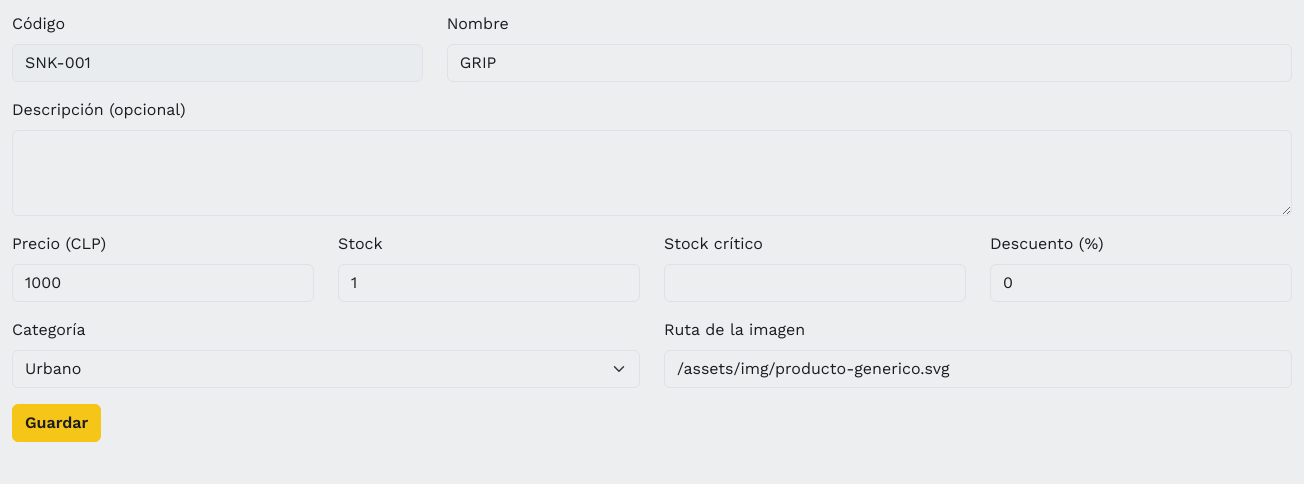
Test: FormularioProducto › bloquea el código al editar y rechaza un descuento mayor al 90%
Expected: the field labelled "Código" is disabled, [12,44,423,82]
Replace the text in the number field labelled "Descuento (%)" with "95": [1141, 283] box [990,264,1292,302]
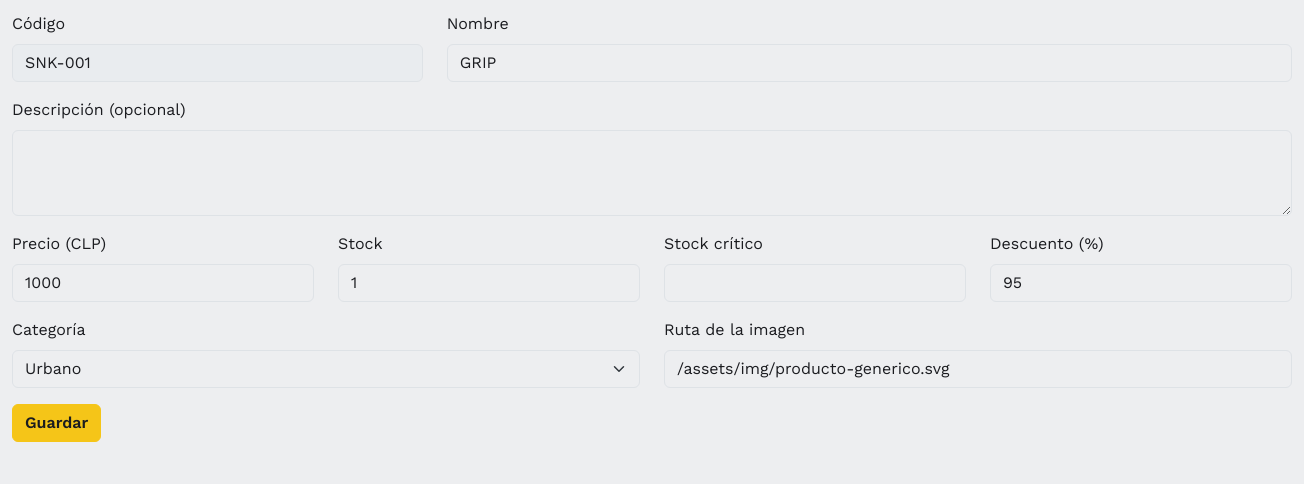
Click the button "Guardar": [57, 423] box [12,404,101,442]
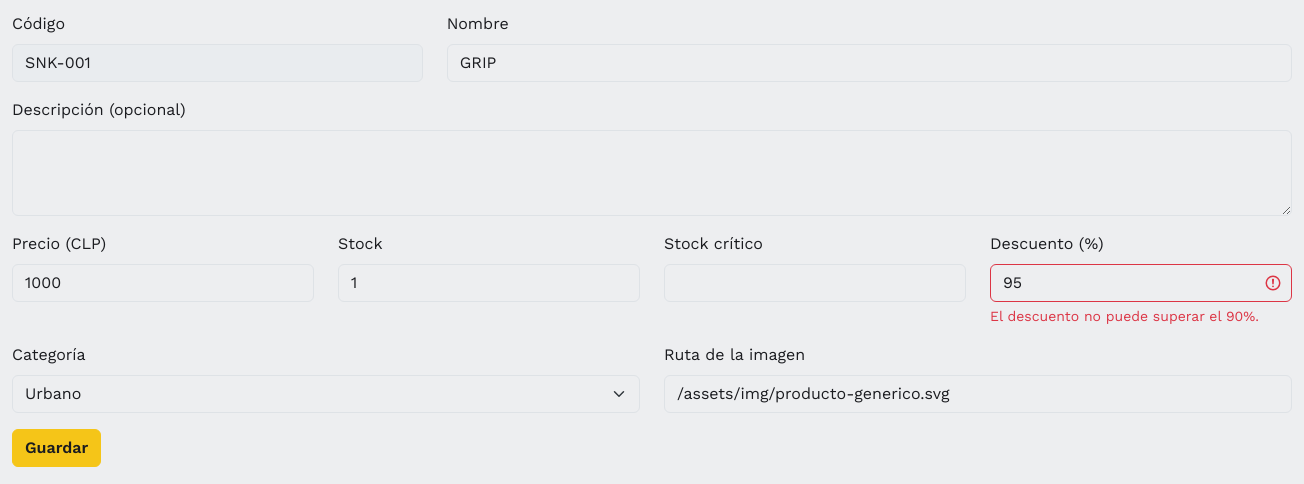
Expected: the text "El descuento no puede superar el 90%." is shown, [990,306,1292,327]
